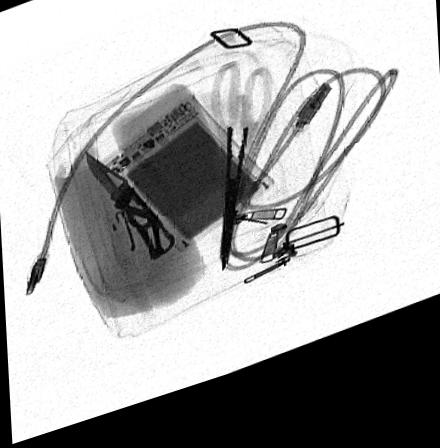Knife: (83, 149, 177, 271)
Powerbank: (97, 102, 277, 262)
Scissors: (204, 74, 272, 285)
